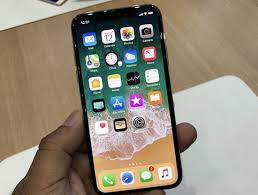iphone: (66, 4, 186, 193)
iphone10: (66, 4, 186, 193)
